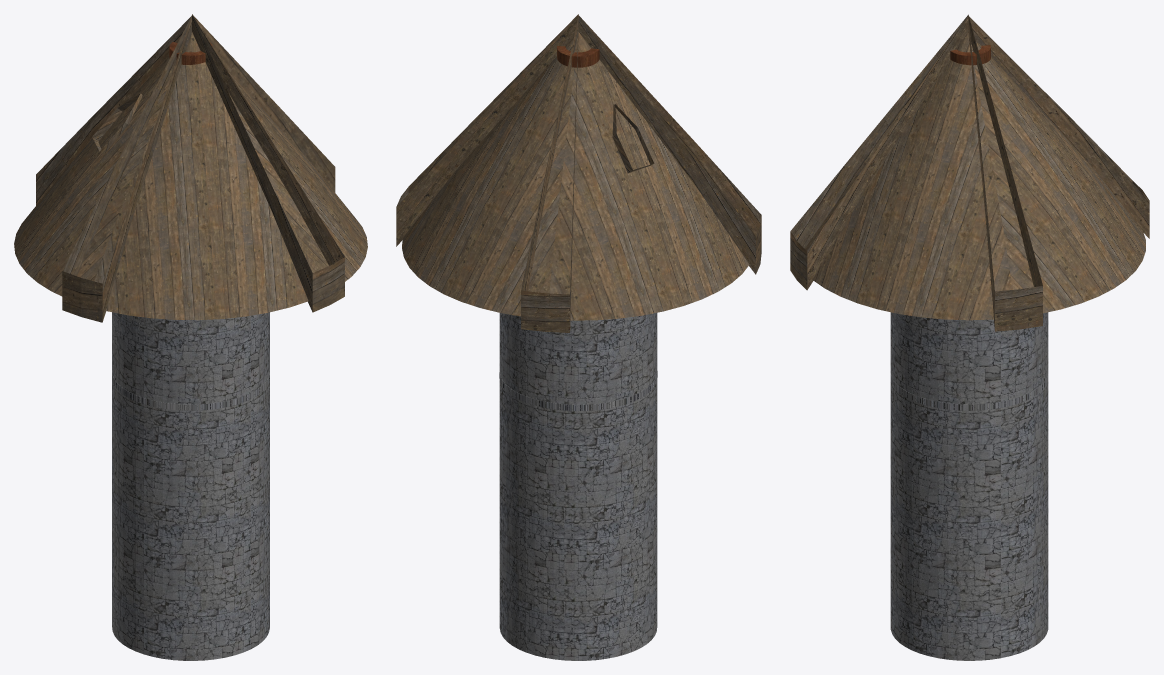
Rendered from castle_inside_scene_lvl_3.fbx.
The picture shows the model from 3 angles, left to right: view 1: azimuth 30°, elevation 25°; view 2: azimuth 150°, elevation 25°; view 3: azimuth 270°, elevation 25°; orthographic projection.
Parts seen in each view (by area): view 1: Cylinder.005, Cylinder.002, Circle.013, Cube.009; view 2: Cylinder.005, Cylinder.002, Circle.013, Cylinder.001, Cube.009; view 3: Cylinder.005, Cylinder.002, Circle.013, Cylinder.001.
Boxes of the visible parts, x1,y1,x2,y2 form: Cylinder.005: (14,32,367,660); Cylinder.002: (36,14,344,322); Circle.013: (112,371,269,410); Cube.009: (92,93,142,153); Cylinder.005: (402,32,749,660); Cylinder.002: (396,14,761,332); Circle.013: (499,371,657,411); Cylinder.001: (557,46,599,67); Cube.009: (612,104,654,173); Cylinder.005: (805,32,1145,660); Cylinder.002: (790,14,1149,331); Circle.013: (890,374,1048,410); Cylinder.001: (950,45,990,65).
Bounding box in the file's own units: 454 × 859 × 455.
